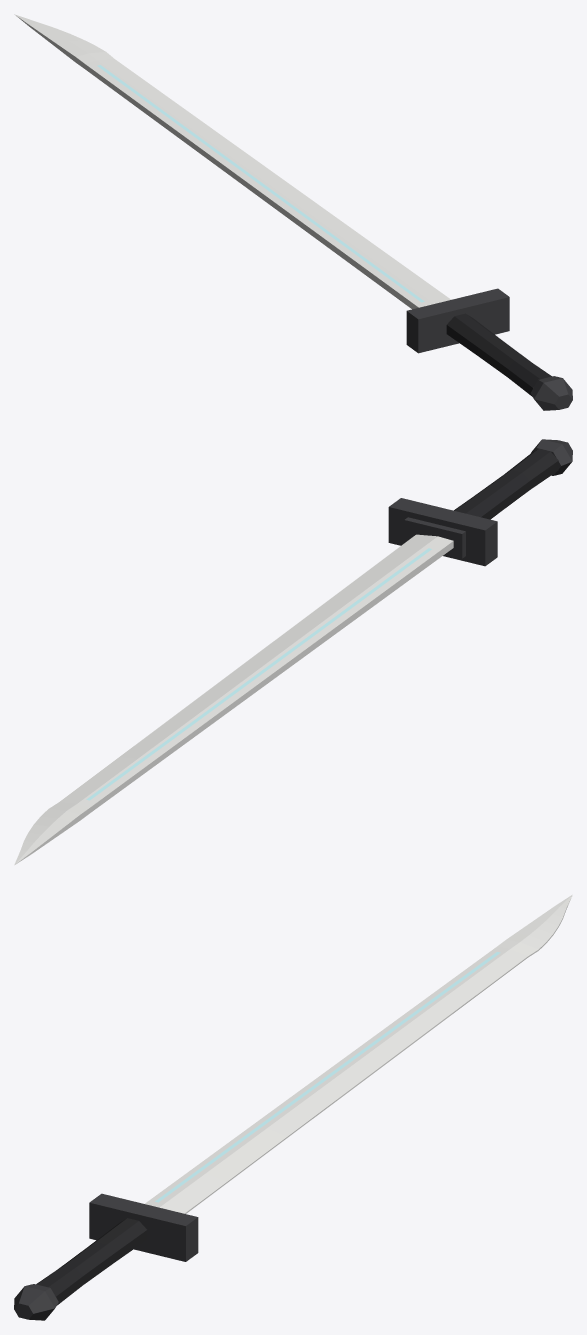
File: SM_Sword_Placeholder.fbx
3 renders of one model, top to bottom at view 1: azimuth 30°, elevation 25°; view 2: azimuth 150°, elevation 25°; view 3: azimuth 330°, elevation 25°, orthographic. The views are drawn at different scales.
Parts seen in each view (by area): view 1: SM_Sword_Placeholder; view 2: SM_Sword_Placeholder; view 3: SM_Sword_Placeholder.
Part boxes in pixels (bbox=[...]): SM_Sword_Placeholder: bbox=[14, 14, 572, 410]; SM_Sword_Placeholder: bbox=[14, 439, 572, 865]; SM_Sword_Placeholder: bbox=[14, 894, 572, 1320].
Size of the model in its own units: 9 by 3.2 by 91.2.
